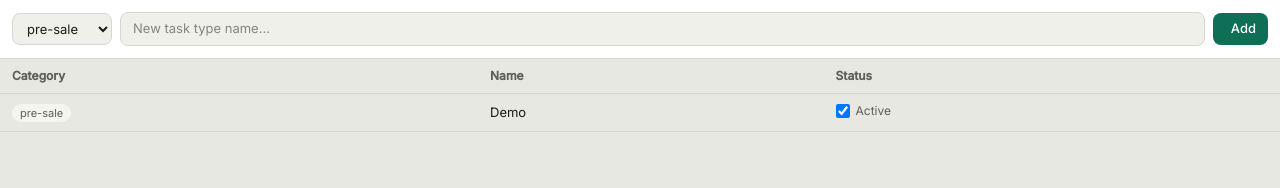
it: TaskTypesPanel › creates a new task type via the inline form, appending it in place without refetching the list
This screenshot has width=1280, height=188.
Expected: the button "Demo" is shown, [490, 102, 526, 122]
Type "Workshop" into the field with placeholder "New task type name…" at (662, 29), box [120, 12, 1205, 46]
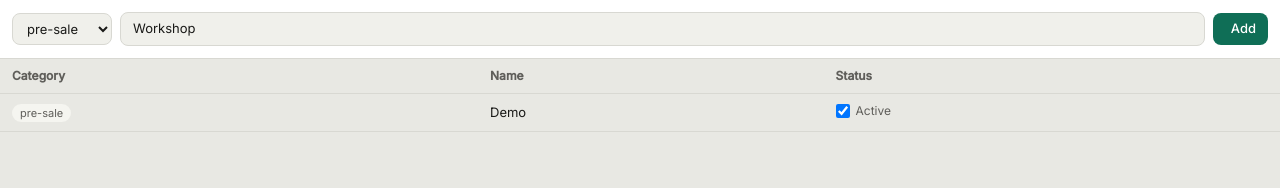
Click the button "Add" at (1240, 29), box [1213, 13, 1268, 44]
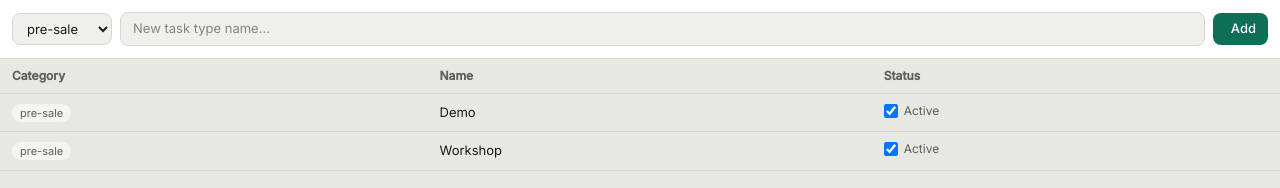
Expected: the button "Demo" is shown, [440, 102, 476, 122]
Expected: the button "Workshop" is shown, [440, 141, 502, 160]
